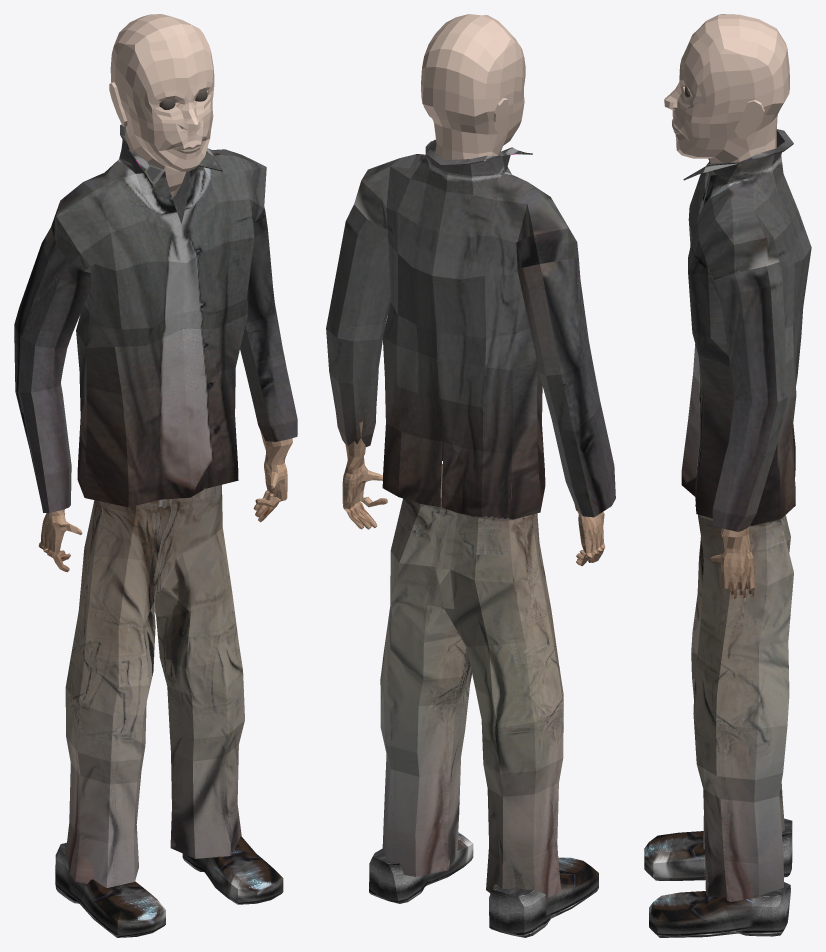
File: buyer.glb
3 views of the same model, side by side, from view 1: azimuth 30°, elevation 25°; view 2: azimuth 150°, elevation 25°; view 3: azimuth 270°, elevation 25° (orthographic).
Parts seen in each view (by area): view 1: shirt, manpants, headHDmale, black fancy shoes, super arms 2; view 2: shirt, manpants, headHDmale, black fancy shoes, super arms 2; view 3: shirt, manpants, headHDmale, black fancy shoes, super arms 2, ear.
Part boxes in pixels (box(x1,y1,x2,y2)): shirt: box(14, 124, 297, 512); manpants: box(65, 485, 244, 887); headHDmale: box(110, 14, 214, 198); black fancy shoes: box(55, 836, 283, 937); super arms 2: box(38, 430, 292, 572); shirt: box(326, 139, 615, 519); manpants: box(380, 464, 563, 898); headHDmale: box(421, 14, 525, 174); black fancy shoes: box(369, 832, 598, 937); super arms 2: box(342, 421, 604, 565); shirt: box(681, 129, 811, 531); manpants: box(691, 497, 793, 901); headHDmale: box(664, 14, 789, 163); black fancy shoes: box(644, 818, 792, 937); super arms 2: box(710, 525, 755, 599); ear: box(734, 100, 764, 139).
Size of the model in its own units: 1.06 by 3.38 by 0.5815.
Materials: 8 (4 with a texture image).
